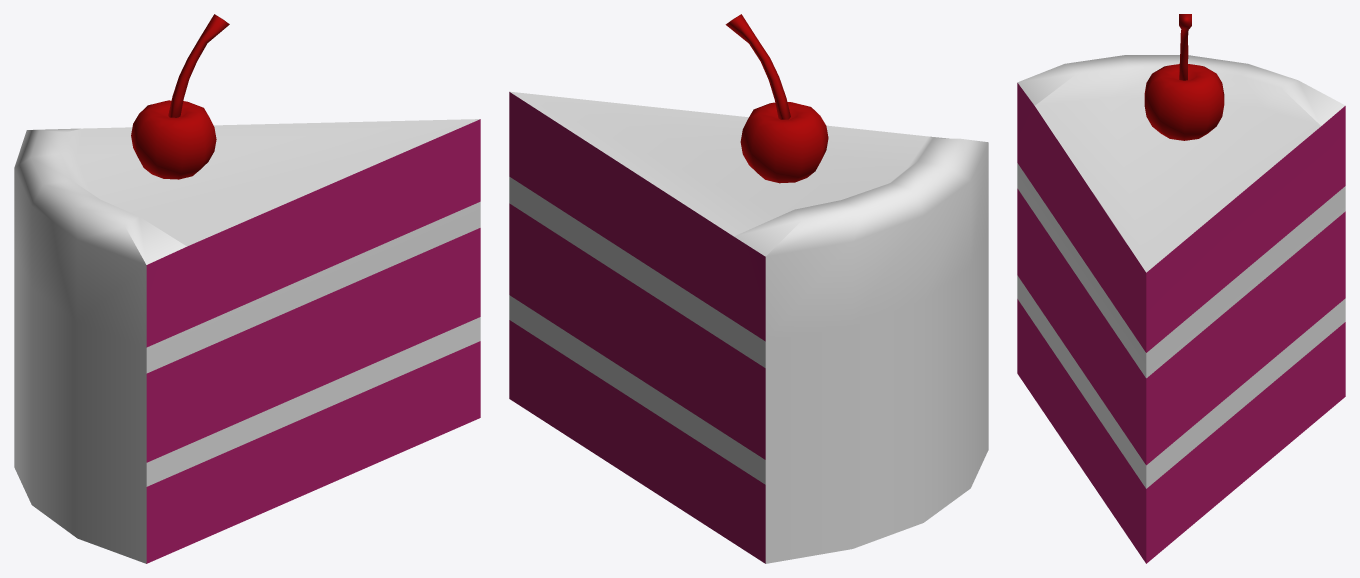
Rendered from Cake.fbx.
3 renders of one model, left to right at view 1: azimuth 30°, elevation 25°; view 2: azimuth 150°, elevation 25°; view 3: azimuth 270°, elevation 25°, orthographic. The views are drawn at different scales.
Parts seen in each view (by area): view 1: pCylinder4; view 2: pCylinder4; view 3: pCylinder4.
Part boxes in pixels (x1=…): pCylinder4: x1=14, y1=14, x2=480, y2=563; pCylinder4: x1=509, y1=14, x2=988, y2=563; pCylinder4: x1=1017, y1=14, x2=1345, y2=563.
Size of the model in its own units: 1.77 by 1.77 by 1.21.
